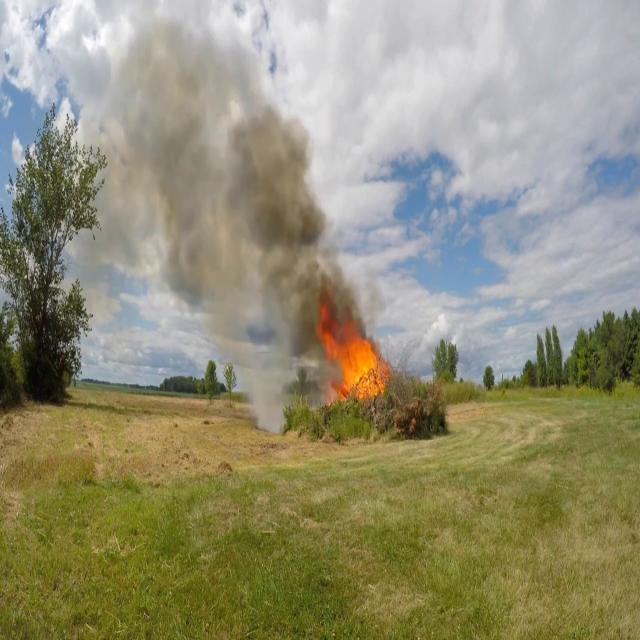Fire: (314, 312, 392, 404)
Smoke: (112, 1, 348, 365)
